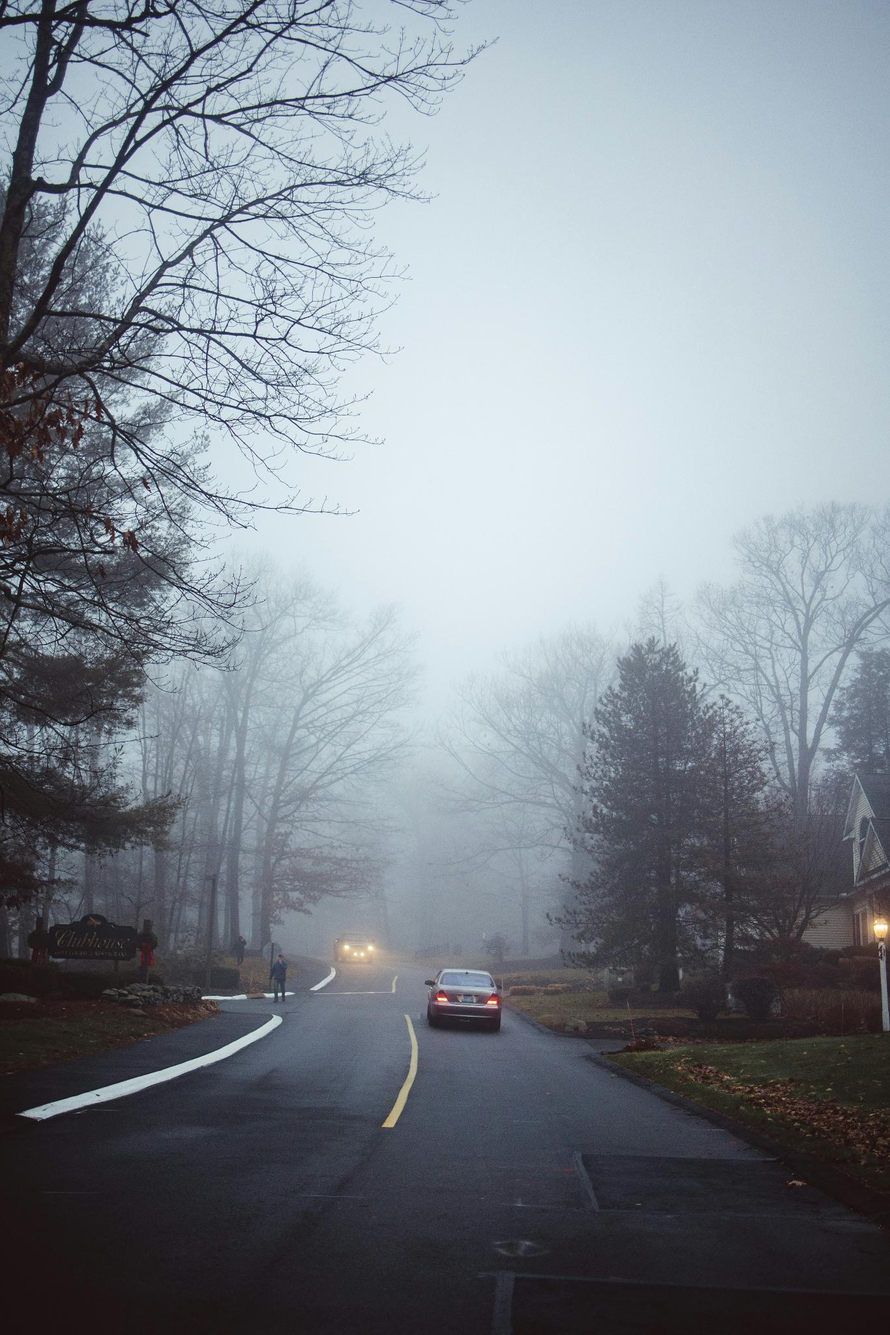car: (430, 969, 504, 1037), (327, 931, 381, 966)
pedestrian: (267, 954, 295, 1005), (232, 934, 249, 966)
